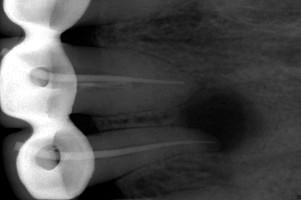Furcation Involvement: (177, 84, 264, 154)
